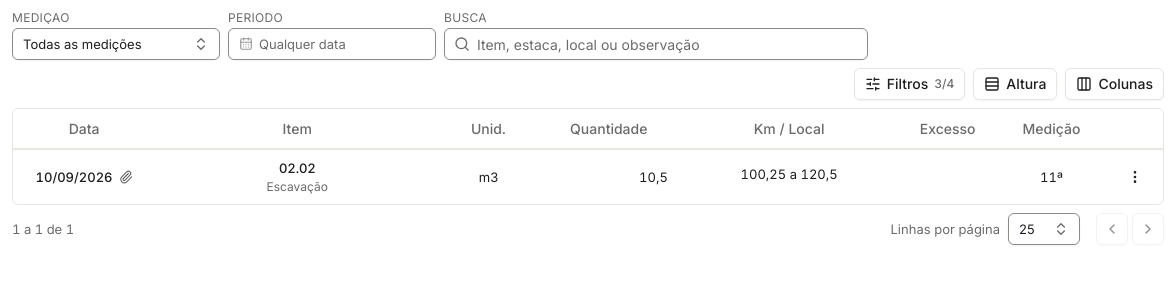
Test: LancamentosTabela › medição aberta com permissão: o menu da linha mostra Editar e Excluir
Press the mouse on the button named "Ações" at (1135, 176), box [1119, 160, 1151, 192]
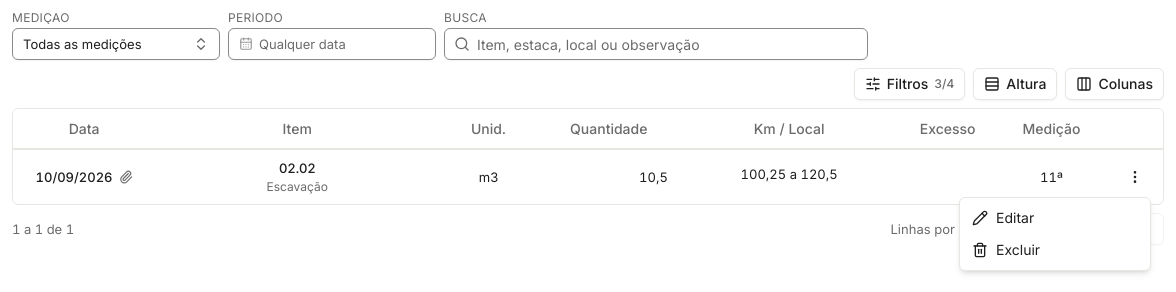
Expected: the menu item "Editar" is shown, [972, 209, 1034, 226]
Expected: the menu item "Excluir" is shown, [972, 241, 1040, 258]
